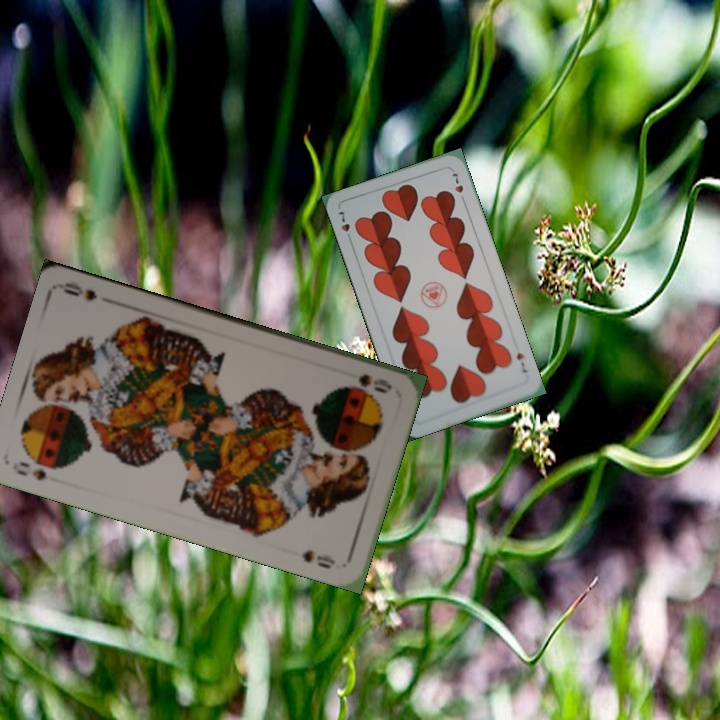H7: (333, 207, 354, 245), (512, 349, 530, 376)
SO: (12, 457, 59, 483), (354, 369, 395, 396)
